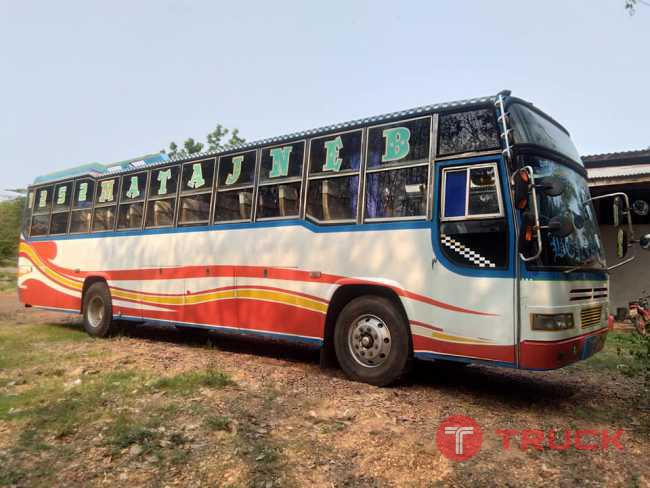bus: (17, 94, 613, 385)
